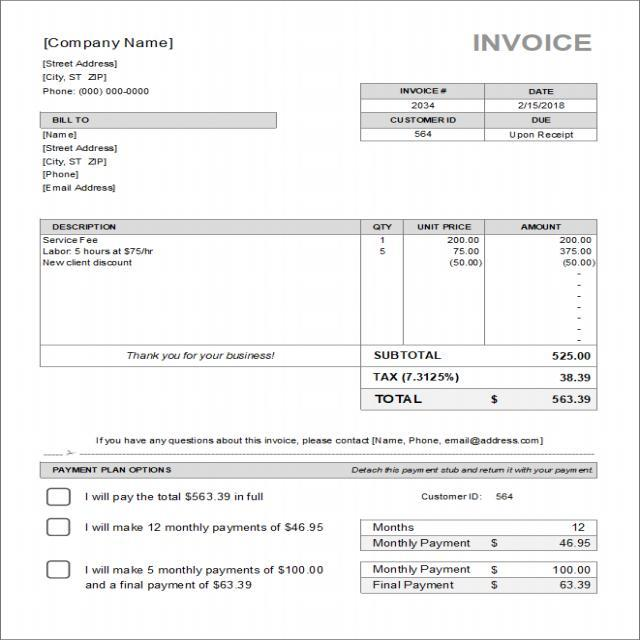customer_address: (40, 142, 120, 168)
customer_name: (38, 130, 80, 141)
invoice_date: (512, 99, 569, 110)
invoice_number: (408, 100, 437, 112)
invoice_subtotal: (547, 347, 595, 364)
invoice_total: (544, 392, 597, 408)
item_description: (42, 233, 157, 273)
item_quantity: (372, 236, 392, 258)
item_total_price: (558, 234, 597, 268)
item_unit_price: (442, 234, 483, 270)
supplier_address: (39, 56, 122, 82)
supplier_name: (32, 35, 184, 51)
tax_amount: (554, 369, 596, 384)
